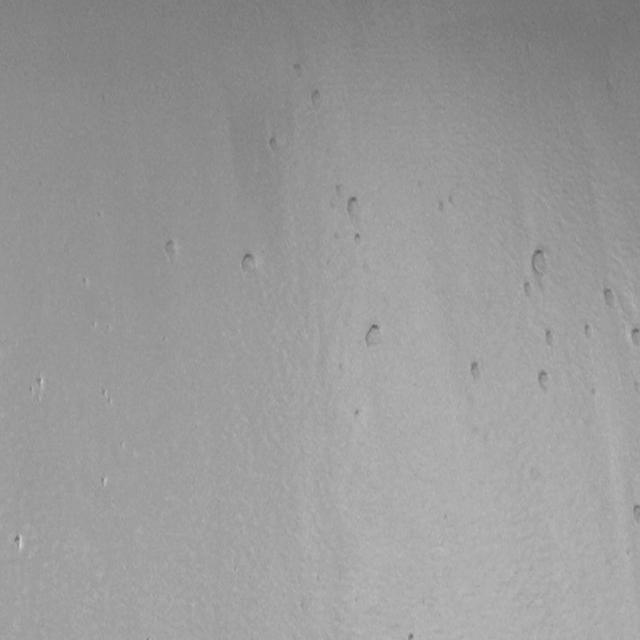pin holes: (529, 244, 553, 278), (361, 320, 386, 352), (598, 285, 622, 315), (344, 194, 367, 225), (161, 235, 183, 266), (238, 250, 261, 276), (31, 374, 52, 399), (466, 358, 485, 384), (536, 369, 554, 394), (265, 134, 285, 156), (308, 87, 327, 110), (435, 194, 454, 217), (542, 326, 560, 349), (351, 405, 370, 426), (519, 280, 537, 302), (100, 388, 117, 408), (12, 533, 27, 555), (290, 61, 308, 79), (582, 321, 596, 343), (629, 324, 640, 347), (98, 472, 111, 491), (351, 230, 364, 249), (98, 386, 111, 404), (80, 274, 93, 291), (630, 502, 640, 523), (405, 629, 420, 639)
